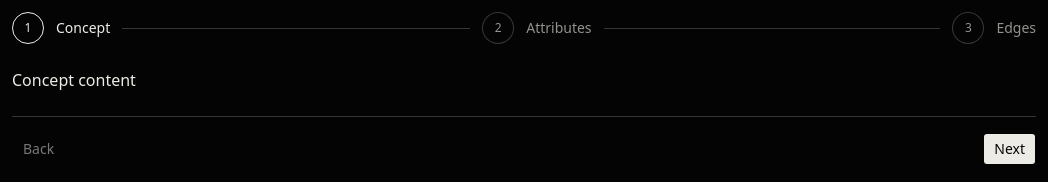
Test: MultiStepFlow › advances when onBeforeNext resolves true
The width and height of the screenshot is (1048, 182).
Click the button "Next".
click(1010, 149)  # box [983, 133, 1036, 165]
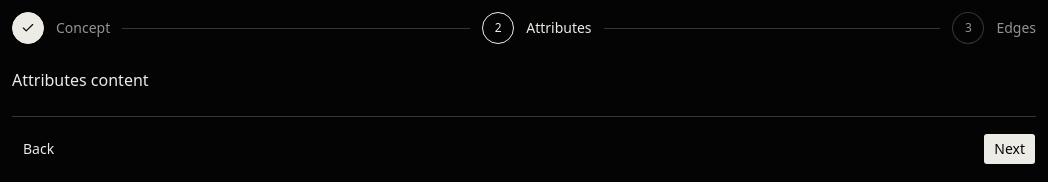
Now the text "Attributes content" is shown, box [12, 69, 149, 91]
